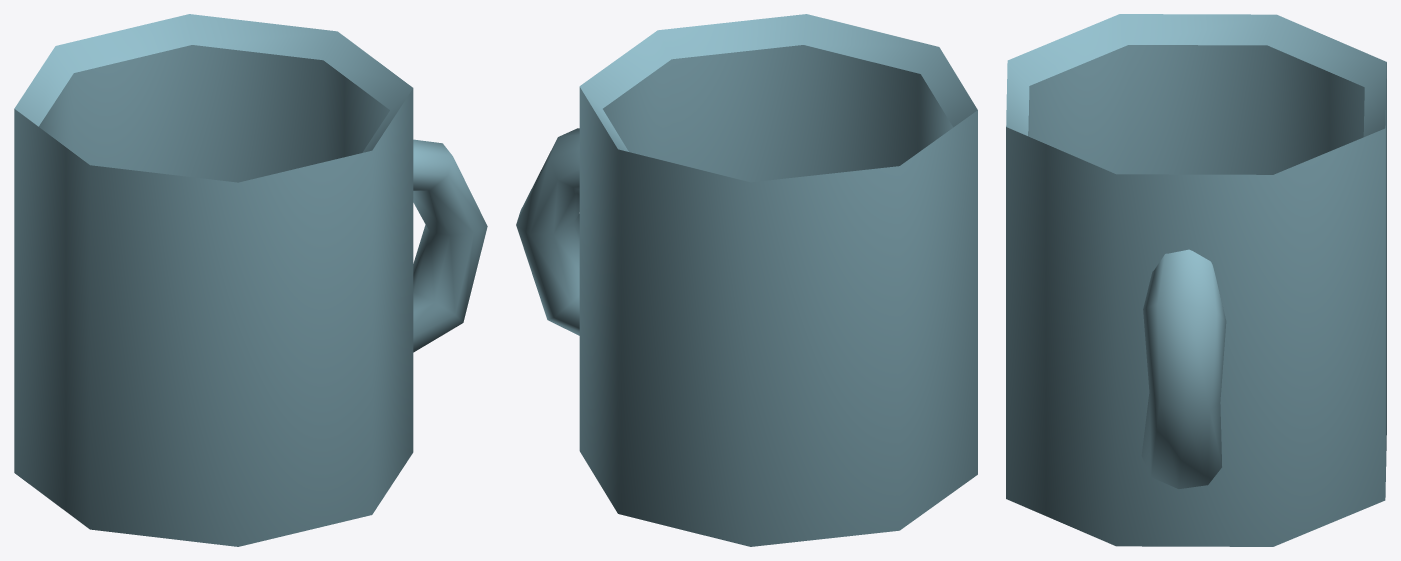
The model's file is Caneca.fbx.
The picture shows the model from 3 angles, left to right: view 1: azimuth 30°, elevation 25°; view 2: azimuth 150°, elevation 25°; view 3: azimuth 270°, elevation 25°; orthographic projection. The views are drawn at different scales.
Visible parts, largest first — view 1: MugSmall; view 2: MugSmall; view 3: MugSmall.
Boxes of the visible parts, x1,y1,x2,y2 form: MugSmall: (14, 14, 487, 546); MugSmall: (516, 14, 977, 546); MugSmall: (1006, 14, 1386, 546).
Bounding box in the file's own units: 8.19 × 6.71 × 6.22.
